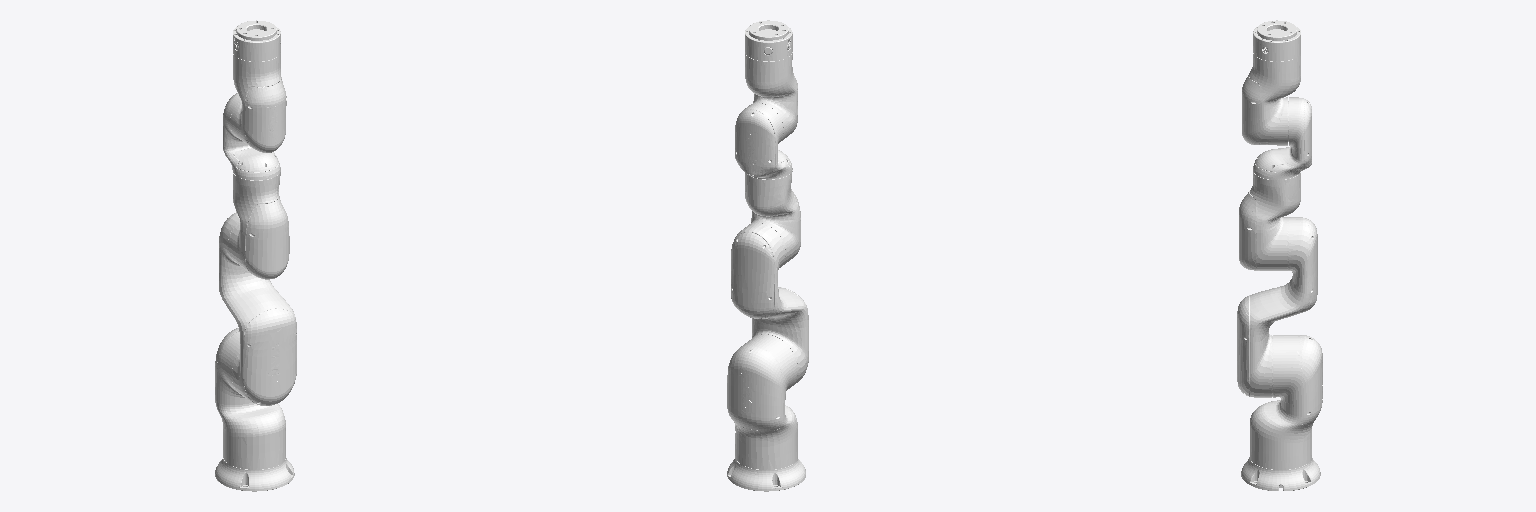
URDF robot description (jaka_minicobo):
<?xml version="1.0" encoding="utf-8"?>
<!-- This URDF was automatically created by SolidWorks to URDF Exporter! Originally created by [author] ([email redacted]) 
     Commit Version: 1.6.0-4-g7f85cfe  Build Version: 1.6.7995.38578
     For more information, please see http://wiki.ros.org/sw_urdf_exporter -->
<robot name="jaka_minicobo">

<!-- LINK -->
    <link name="world"/>

  <link name="Link_0">
    <inertial>
      <origin xyz="-0.000169872459617813 -2.36448827889745E-08 0.0132846923173683"  rpy="0 0 0" />
      <mass value="0.76174" />
      <inertia ixx="0.000673719313504642" ixy="-1.30755705487849E-08" ixz="-1.3262407834936E-06" iyy="0.000666781851440875" iyz="-1.80735801539484E-11" izz="0.00123663316539255" />
    </inertial>
    <visual>
      <origin xyz="0 0 0" rpy="0 0 0" />
      <geometry>
        <mesh filename="package://jaka_description/meshes/jaka_minicobo_meshes/Link0.STL" />
      </geometry>
      <material name="">
        <color rgba="1 1 1 1" />
      </material>
    </visual>
    <collision>
      <origin xyz="0 0 0" rpy="0 0 0" />
      <geometry>
        <mesh  filename="package://jaka_description/meshes/jaka_minicobo_meshes/Link0.STL" />
      </geometry>
    </collision>
  </link>

  <link name="Link_1">
    <inertial>
      <origin xyz="-1.99985037409469E-06 0.0134079971540169 -0.061631393869219" rpy="0 0 0" />
      <mass value="3.1571" />
      <inertia ixx="0.0128375469787325" ixy="2.28361925094216E-07" ixz="5.81760635898215E-08" iyy="0.0126762000445666" iyz="-0.00161037595218336" izz="0.00390574573183596" />
    </inertial>
    <visual>
      <origin xyz="0 0 0" rpy="0 0 0" />
      <geometry>
        <mesh filename="package://jaka_description/meshes/jaka_minicobo_meshes/Link1.STL" />
      </geometry>
      <material
        name="">
        <color rgba="1 1 1 1" />
      </material>
    </visual>
    <collision>
      <origin xyz="0 0 0" rpy="0 0 0" />
      <geometry>
        <mesh  filename="package://jaka_description/meshes/jaka_minicobo_meshes/Link1.STL" />
      </geometry>
    </collision>
  </link>

<link name="Link_2">
    <inertial>
      <origin xyz="0.090613 -1.3771E-06 0.0043964"  rpy="0 0 0" />
      <mass value="1.0141" />
      <inertia ixx="0.0019174" ixy="6.2208E-07" ixz="0.0022687" iyy="0.0073149"  iyz="-3.3214E-07" izz="0.0064681" />
    </inertial>
    <visual>
      <origin xyz="0 0 0" rpy="0 0 0" />
      <geometry>
        <mesh filename="package://jaka_description/meshes/jaka_minicobo_meshes/Link2.STL" />
      </geometry>
      <material name="">
        <color rgba="1 1 1 1" />
      </material>
    </visual>
    <collision>
      <origin xyz="0 0 0" rpy="0 0 0" />
      <geometry>
        <mesh filename="package://jaka_description/meshes/jaka_minicobo_meshes/Link2.STL" />
      </geometry>
    </collision>
  </link>

<link name="Link_3">
    <inertial>
      <origin xyz="-2.836E-07 0.042086 0.012428" rpy="0 0 0" />
      <mass  value="2.018" />
      <inertia ixx="0.0055107" ixy="2.2287E-08" ixz="-3.4784E-08" iyy="0.0017496" iyz="0.0005528" izz="0.0052708" />
    </inertial>
    <visual>
      <origin xyz="0 0 0" rpy="0 0 0" />
      <geometry>
        <mesh filename="package://jaka_description/meshes/jaka_minicobo_meshes/Link3.STL" />
      </geometry>
      <material name="">
        <color rgba="1 1 1 1" />
      </material>
    </visual>
    <collision>
      <origin xyz="0 0 0" rpy="0 0 0" />
      <geometry>
        <mesh filename="package://jaka_description/meshes/jaka_minicobo_meshes/Link3.STL" />
      </geometry>
    </collision>
  </link>

<link name="Link_4">
    <inertial>
      <origin xyz="-5.23366787087349E-06 0.025945911865393 -0.0349284126752025" rpy="0 0 0" />
      <mass value="0.412340000009804" />
      <inertia ixx="0.000648308078586465" ixy="2.01279577389176E-08" ixz="-2.91846428270101E-08" iyy="0.000622438484108618" iyz="-0.000147788635079694" izz="0.000313549566736677" />
    </inertial>
    <visual>
      <origin xyz="0 0 0" rpy="0 0 0" />
      <geometry>
        <mesh filename="package://jaka_description/meshes/jaka_minicobo_meshes/Link4.STL" />
      </geometry>
      <material name="">
        <color rgba="1 1 1 1" />
      </material>
    </visual>
    <collision>
      <origin xyz="0 0 0" rpy="0 0 0" />
      <geometry>
        <mesh filename="package://jaka_description/meshes/jaka_minicobo_meshes/Link4.STL" />
      </geometry>
    </collision>
  </link>

<link name="Link_5">
    <inertial>
      <origin xyz="8.7254E-06 0.044553 0.010268" rpy="0 0 0" />
      <mass  value="1.6793" />
      <inertia ixx="0.0040718" ixy="4.0506E-07"  ixz="1.0998E-07" iyy="0.0013014" iyz="0.00040116" izz="0.0039042" />
    </inertial>
    <visual>
      <origin xyz="0 0 0" rpy="0 0 0" />
      <geometry>
        <mesh filename="package://jaka_description/meshes/jaka_minicobo_meshes/Link5.STL" />
      </geometry>
      <material name="">
        <color rgba="1 1 1 1" />
      </material>
    </visual>
    <collision>
      <origin xyz="0 0 0" rpy="0 0 0" />
      <geometry>
        <mesh filename="package://jaka_description/meshes/jaka_minicobo_meshes/Link5.STL" />
      </geometry>
    </collision>
  </link>

<link name="Link_6">
    <inertial>
      <origin xyz="-2.33954680956047E-05 3.42676856690269E-05 -0.0202928698270544" rpy="0 0 0" />
      <mass value="0.311970001247665" />
      <inertia ixx="0.00014377819366" ixy="-8.50913479195225E-07"  ixz="-2.37501745813128E-07"  iyy="0.000142682702873271"  iyz="-3.26920852568197E-08" izz="0.000221812602025683" />
    </inertial>
    <visual>
      <origin xyz="0 0 0"  rpy="0 0 0" />
      <geometry>
        <mesh  filename="package://jaka_description/meshes/jaka_minicobo_meshes/Link6.STL" />
      </geometry>
      <material name="">
        <color rgba="1 1 1 1" />
      </material>
    </visual>
    <collision>
      <origin xyz="0 0 0" rpy="0 0 0" />
      <geometry>
        <mesh filename="package://jaka_description/meshes/jaka_minicobo_meshes/Link6.STL" />
      </geometry>
    </collision>
  </link>

<link name="dummy_tcp"/>


  <!-- JOINT -->

    <joint name="fixed" type="fixed">
        <parent link="world"/>
        <child link="Link_0"/>
    </joint>

  <joint name="joint_1" type="revolute">
    <origin xyz="0 0 0.187" rpy="0 0 0" />
    <parent link="Link_0" />
    <child link="Link_1" />
    <axis xyz="0 0 1" />
    <limit lower="-6.28" upper="6.28"  effort="100" velocity="1.57" />
  </joint>
  
  <joint  name="joint_2" type="revolute">
    <origin xyz="0 -0.006 0" rpy="1.5708 -1.5708 0" />
    <parent  link="Link_1" />
    <child link="Link_2" />
    <axis xyz="0 0 1" />
    <limit lower="-2.09" upper="2.09" effort="100" velocity="1.57" />
  </joint>
  
  <joint  name="joint_3" type="revolute">
    <origin xyz="0.21 0 0" rpy="0 0 -1.5708" />
    <parent link="Link_2" />
    <child link="Link_3" />
    <axis xyz="0 0 1" />
    <limit lower="-2.27" upper="2.27" effort="100" velocity="1.57" />
  </joint>
  
  <joint name="joint_4" type="revolute">
    <origin xyz="0 0.2105 0" rpy="-1.5708 0 0" />
    <parent link="Link_3" />
    <child link="Link_4" />
    <axis xyz="0 0 1" />
    <limit lower="-6.28" upper="6.28" effort="100" velocity="1.57" />
  </joint>
  
  <joint name="joint_5" type="revolute">
    <origin xyz="0 0 0" rpy="1.5708 0 0" />
    <parent link="Link_4" />
    <child link="Link_5" />
    <axis xyz="0 0 1" />
    <limit lower="-2.09" upper="2.09" effort="100" velocity="1.57" />
  </joint>
  
  <joint name="joint_6" type="revolute">
    <origin xyz="0 0.1593 0" rpy="-1.5708 0 0" />
    <parent  link="Link_5" />
    <child link="Link_6" />
    <axis xyz="0 0 1" />
    <limit lower="-6.28" upper="6.28" effort="100" velocity="1.57" />
  </joint>

<joint name="dummy_tcp_joint" type="fixed">
        <origin xyz="0 0 0" rpy="0 0 0" />
        <parent link="Link_6" />
        <child link="dummy_tcp" />
    </joint>
	
	 <!-- Gazebo -->
    <gazebo reference="dummy">
		<material>Gazebo/White</material>
    </gazebo>

    <gazebo reference="Link_0">
        <material>Gazebo/White</material>
    </gazebo>

    <gazebo reference="Link_1">
        <material>Gazebo/White</material>
    </gazebo>

    <gazebo reference="Link_2">
        <material>Gazebo/White</material>
    </gazebo>

    <gazebo reference="Link_3">
        <material>Gazebo/White</material>
    </gazebo>

    <gazebo reference="Link_4">
        <material>Gazebo/White</material>
    </gazebo>

    <gazebo reference="Link_5">
        <material>Gazebo/White</material>
    </gazebo>

     <gazebo reference="Link_6">
        <material>Gazebo/White</material>
    </gazebo>   
	
    <!-- TRANSMISSION -->
    <transmission name="trans_joint_1">
        <type>transmission_interface/SimpleTransmission</type>
        <joint name="joint_1">
            <hardwareInterface>hardware_interface/PositionJointInterface</hardwareInterface>
        </joint>
        <actuator name="joint_1_motor">
            <hardwareInterface>hardware_interface/PositionJointInterface</hardwareInterface>
            <mechanicalReduction>50</mechanicalReduction>
        </actuator>
    </transmission>

    <transmission name="trans_joint_2">
        <type>transmission_interface/SimpleTransmission</type>
        <joint name="joint_2">
            <hardwareInterface>hardware_interface/PositionJointInterface</hardwareInterface>
        </joint>
        <actuator name="joint_2_motor">
            <hardwareInterface>hardware_interface/PositionJointInterface</hardwareInterface>
            <mechanicalReduction>50</mechanicalReduction>
        </actuator>
    </transmission>

    <transmission name="trans_joint_3">
        <type>transmission_interface/SimpleTransmission</type>
        <joint name="joint_3">
            <hardwareInterface>hardware_interface/PositionJointInterface</hardwareInterface>
        </joint>
        <actuator name="joint_3_motor">
            <hardwareInterface>hardware_interface/PositionJointInterface</hardwareInterface>
            <mechanicalReduction>50</mechanicalReduction>
        </actuator>
    </transmission>

    <transmission name="trans_joint_4">
        <type>transmission_interface/SimpleTransmission</type>
        <joint name="joint_4">
            <hardwareInterface>hardware_interface/PositionJointInterface</hardwareInterface>
        </joint>
        <actuator name="joint_4_motor">
            <hardwareInterface>hardware_interface/PositionJointInterface</hardwareInterface>
            <mechanicalReduction>50</mechanicalReduction>
        </actuator>
    </transmission>

    <transmission name="trans_joint_5">
        <type>transmission_interface/SimpleTransmission</type>
        <joint name="joint_5">
            <hardwareInterface>hardware_interface/PositionJointInterface</hardwareInterface>
        </joint>
        <actuator name="joint_5_motor">
            <hardwareInterface>hardware_interface/PositionJointInterface</hardwareInterface>
            <mechanicalReduction>50</mechanicalReduction>
        </actuator>
    </transmission>

    <transmission name="trans_joint_6">
        <type>transmission_interface/SimpleTransmission</type>
        <joint name="joint_6">
            <hardwareInterface>hardware_interface/PositionJointInterface</hardwareInterface>
        </joint>
        <actuator name="joint_6_motor">
            <hardwareInterface>hardware_interface/PositionJointInterface</hardwareInterface>
            <mechanicalReduction>50</mechanicalReduction>
        </actuator>
    </transmission>



    <!-- Gazebo Control Plugin-->
    <gazebo>
        <plugin name="gazebo_ros_control" filename="libgazebo_ros_control.so">
            <robotNamespace>/</robotNamespace>
        </plugin>
    </gazebo>	
	
</robot>

--- Facts derived from the render (not from the file) ---
3 views of the same robot in one strip: view 1: azimuth 30°, elevation 25°; view 2: azimuth 150°, elevation 25°; view 3: azimuth 270°, elevation 25° (orthographic).
Model jaka_minicobo with 9 links and 8 joints (6 revolute, 2 fixed), rooted at world, posed all joints at 0.
Visible links, largest first — view 1: Link_2, Link_1, Link_3, Link_5, Link_4, Link_6, Link_0; view 2: Link_1, Link_2, Link_4, Link_3, Link_5, Link_6, Link_0; view 3: Link_1, Link_2, Link_3, Link_5, Link_4, Link_6, Link_0.
Boxes of the visible links, x1,y1,x2,y2 form: Link_2: [219, 212, 296, 405]; Link_1: [215, 328, 285, 469]; Link_3: [228, 172, 289, 279]; Link_5: [230, 53, 286, 152]; Link_4: [223, 93, 280, 180]; Link_6: [233, 20, 280, 61]; Link_0: [215, 458, 294, 491]; Link_1: [727, 334, 797, 469]; Link_2: [731, 223, 808, 385]; Link_4: [735, 103, 792, 179]; Link_3: [745, 170, 800, 267]; Link_5: [745, 52, 797, 142]; Link_6: [745, 20, 792, 61]; Link_0: [727, 458, 805, 491]; Link_1: [1250, 335, 1322, 469]; Link_2: [1237, 217, 1317, 397]; Link_3: [1239, 172, 1300, 270]; Link_5: [1242, 53, 1300, 145]; Link_4: [1253, 97, 1311, 179]; Link_6: [1253, 20, 1300, 61]; Link_0: [1241, 457, 1320, 490].
Bounding box of the posed robot: 0.1238 × 0.133 × 0.7668 m (x, y, z).
7 mesh visuals loaded from 7 distinct referenced files (7 binary STL).
